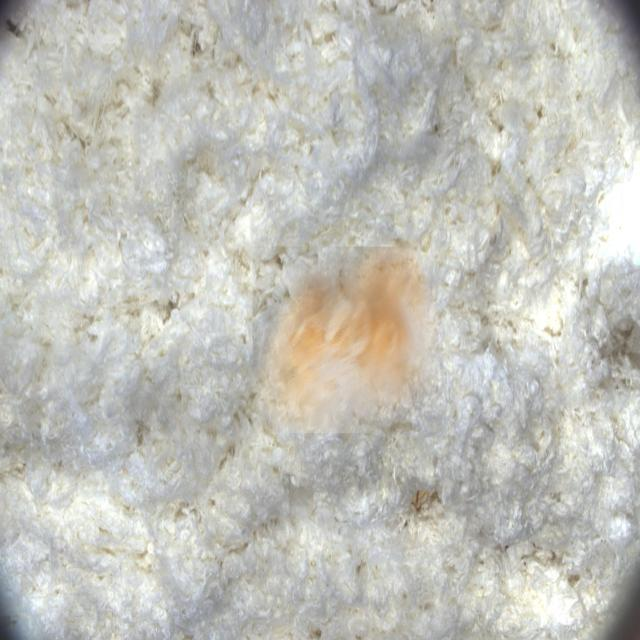dust: (252, 247, 439, 433)
